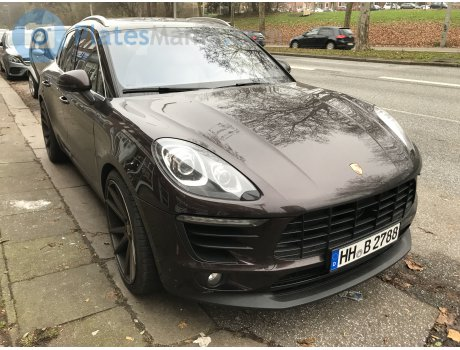License Plates: (343, 224, 401, 264)
